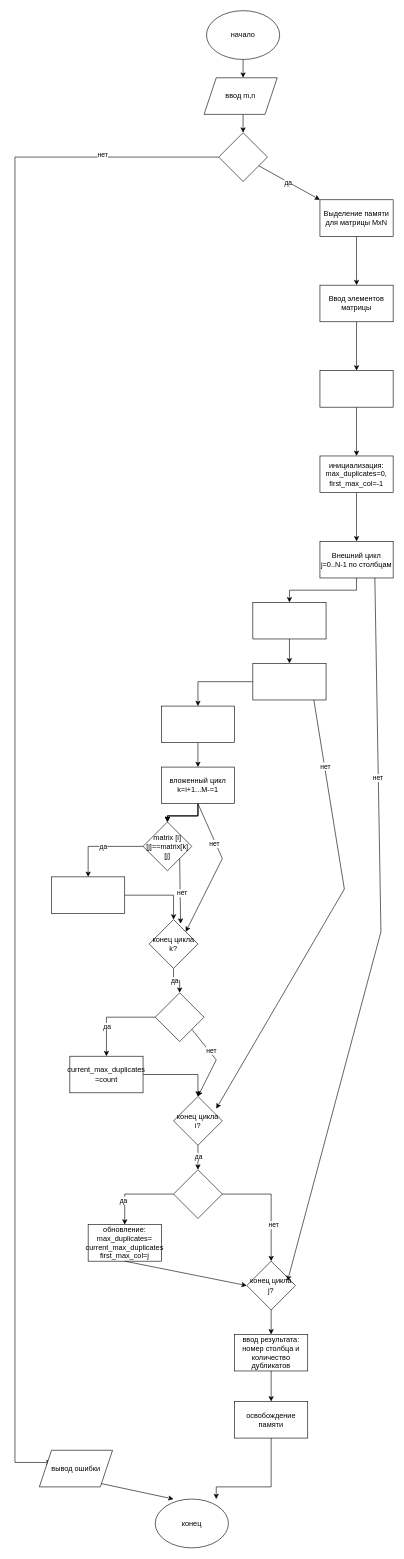
The diagram is 404 pixels wide and 1559 high, and some of its shapes have lost their labels. Here are the shapes that lost their labels. From the top down, the centre of each, then its label:
At (x=242, y=156): "M>0 и N>0?".
At (x=356, y=388): "ввод матрицы".
At (x=289, y=620): "инициализация current_max_duplicates=1".
At (x=289, y=681): "внутренний цикл i=0 ...m-1 по строкам".
At (x=198, y=724): "инициализация count=1".
At (x=88, y=894): "count++".
At (x=179, y=1017): "count > current_max_duplicates?".
At (x=197, y=1193): "current_max_duplicate s> max_duplicate s?".
